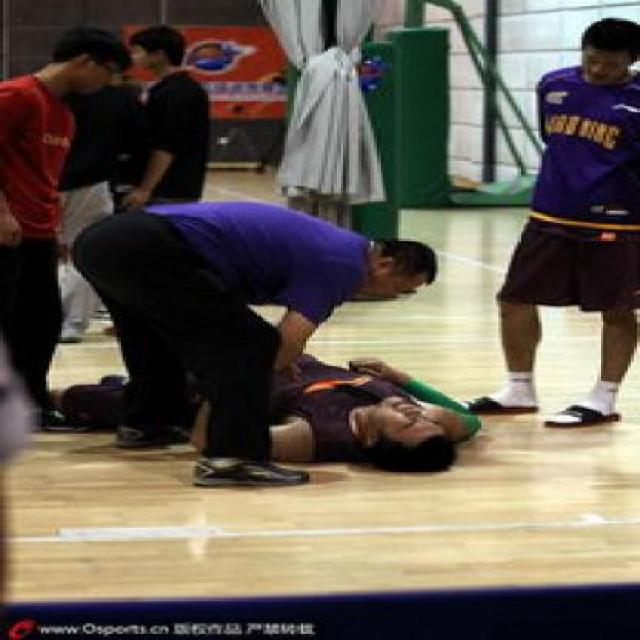fall: (18, 309, 478, 473)
